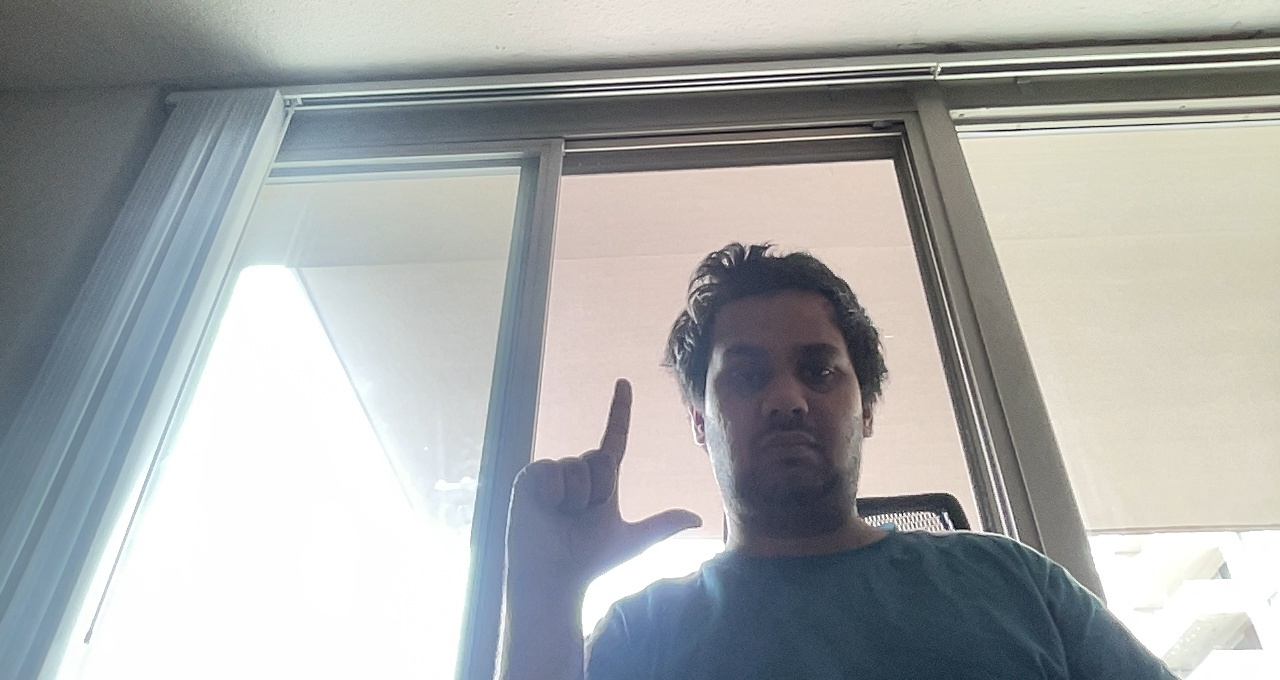L: (504, 372, 709, 585)
